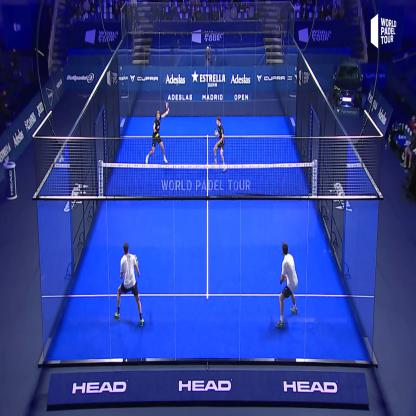ball: (156, 128, 160, 140)
